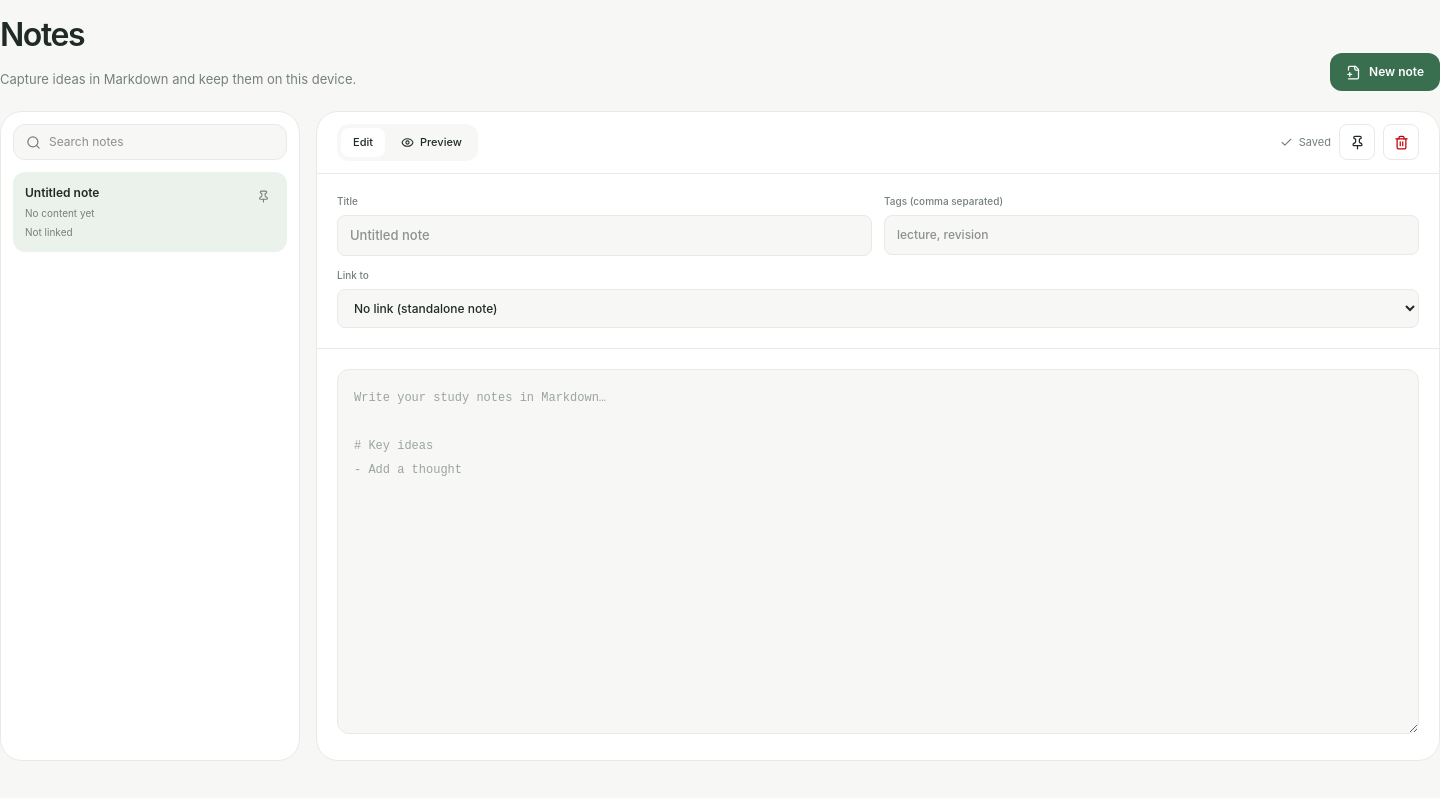
Test: NotesPage › announces when local autosave fails and retains the editor content for retry
This screenshot has width=1440, height=798.
In the text box named "Markdown source": (878, 551) [337,369,1419,734], type "Unsaved draft"
(page scrolled)
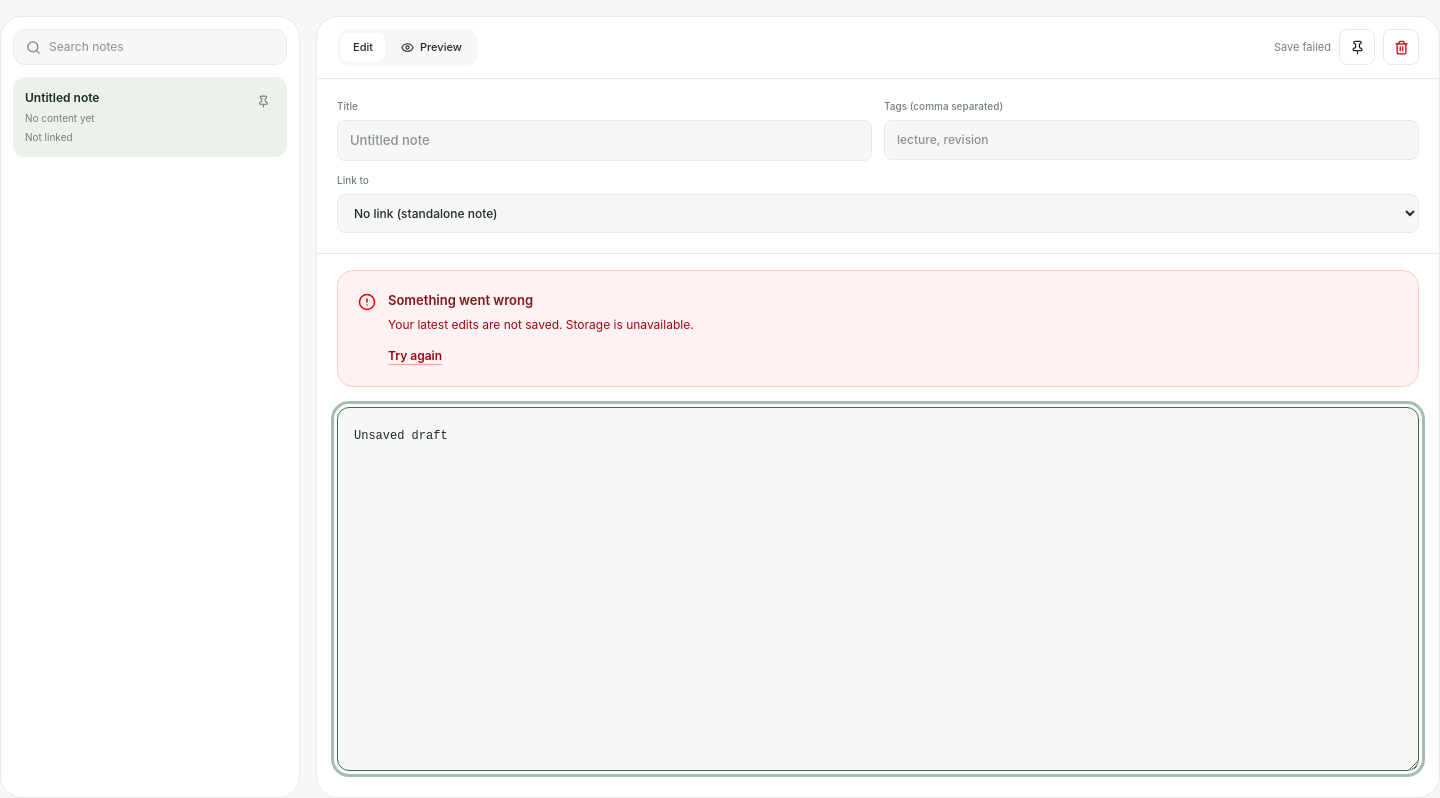
Expected: the message that starts with "Something went wrong" shows "latest edits are not saved", [388,316,694,332]
